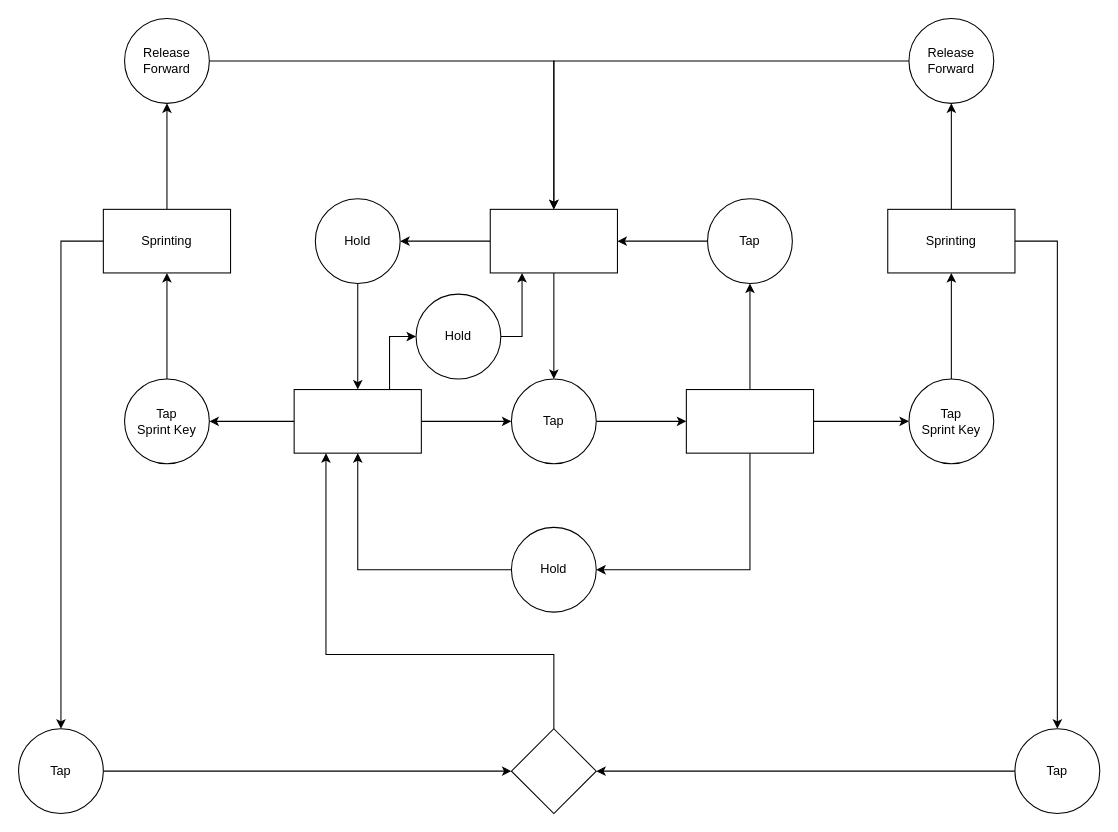
This 1118x832 diagram has some shape labels left out. Each missing label, with the centre of its shape:
Crawl: (357,420)
Crouch: (749,420)
Diving: (553,771)
Standing: (553,240)
